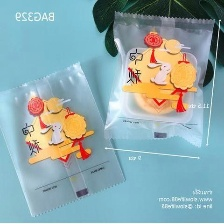snack: (0, 56, 130, 220), (97, 6, 220, 152)
